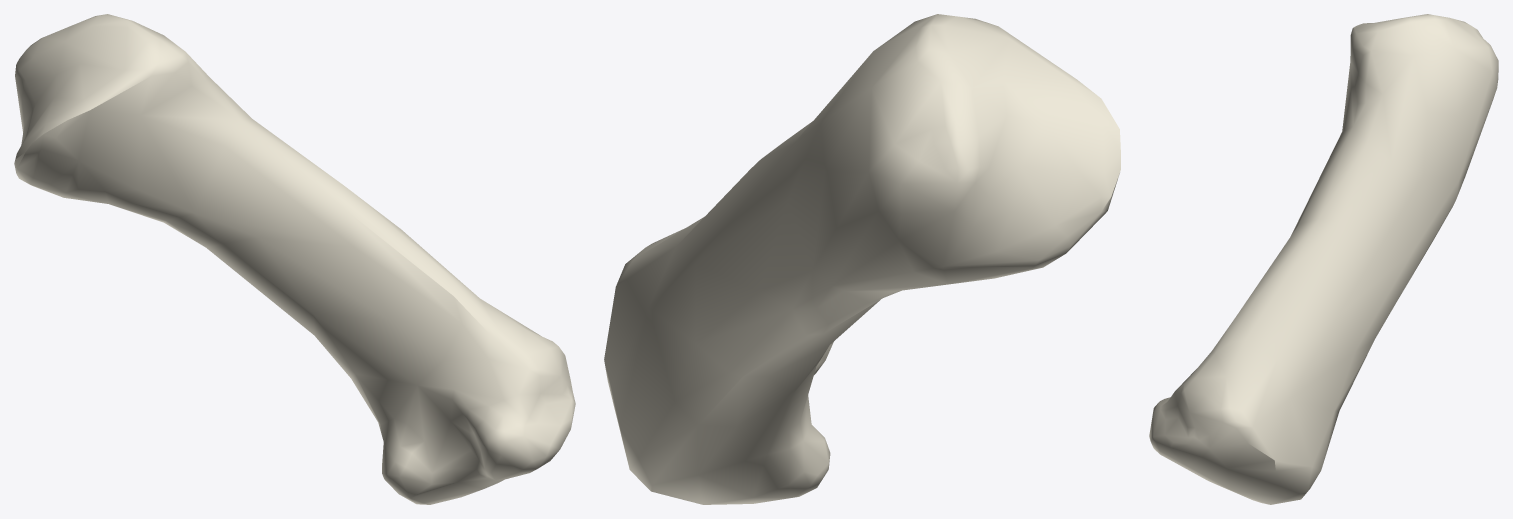
Rendered from fma24465_fj3240.glb.
The picture shows the model from 3 angles, left to right: view 1: azimuth 30°, elevation 25°; view 2: azimuth 150°, elevation 25°; view 3: azimuth 270°, elevation 25°; orthographic projection. The views are drawn at different scales.
Visible parts, largest first — view 1: FMA24465_FJ3240; view 2: FMA24465_FJ3240; view 3: FMA24465_FJ3240.
Boxes of the visible parts, x1=… form: FMA24465_FJ3240: x1=14, y1=14, x2=575, y2=504; FMA24465_FJ3240: x1=604, y1=14, x2=1120, y2=504; FMA24465_FJ3240: x1=1149, y1=14, x2=1498, y2=504.
Size of the model in its own units: 0.0373 by 0.0371 by 0.0304.
